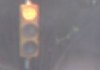Red: (16, 1, 43, 62)
